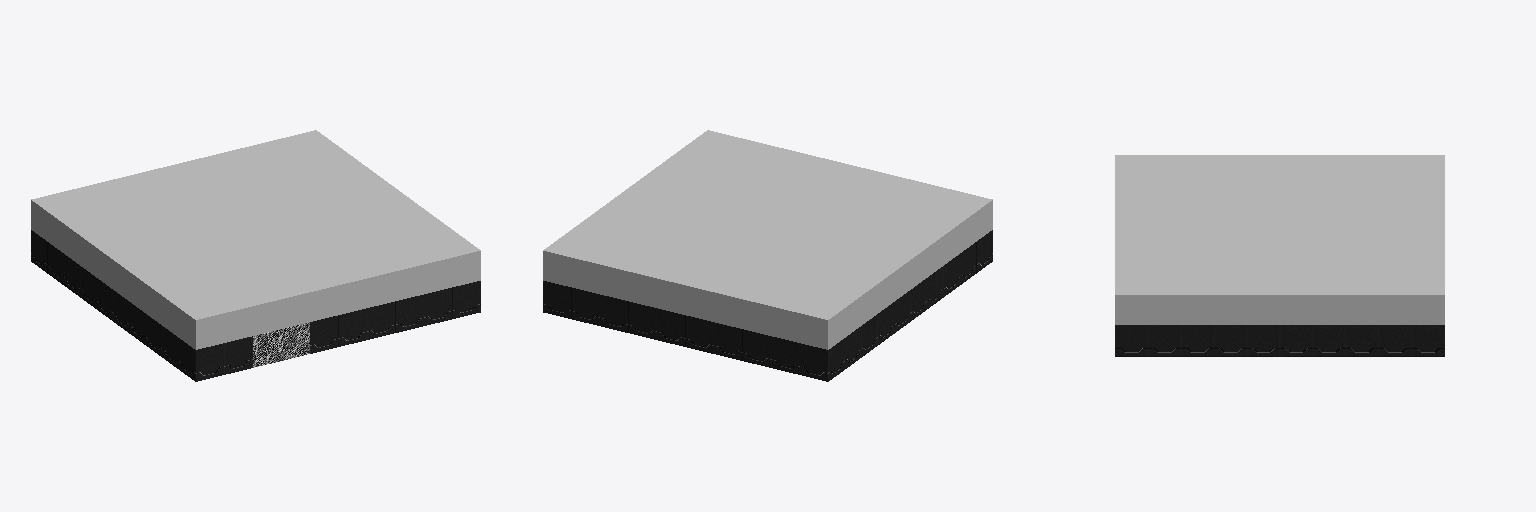
The picture shows the model from 3 angles: view 1: azimuth 30°, elevation 25°; view 2: azimuth 150°, elevation 25°; view 3: azimuth 270°, elevation 25°; orthographic projection.
Parts seen in each view (by area): view 1: building3, building3_wall, building3_floor; view 2: building3, building3_wall; view 3: building3, building3_wall.
Boxes of the visible parts, <box> form: building3: <box>31,130,480,349</box>; building3_wall: <box>31,230,480,381</box>; building3_floor: <box>253,322,309,367</box>; building3: <box>543,130,992,349</box>; building3_wall: <box>543,230,992,381</box>; building3: <box>1115,155,1444,324</box>; building3_wall: <box>1115,325,1444,356</box>.
Size of the model in its own units: 200 by 41.35 by 200.
Materials: 3 (2 with a texture image).